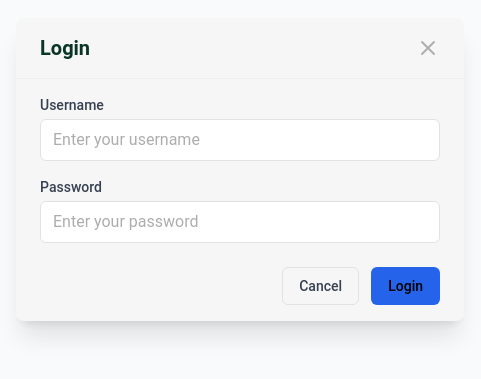
Test: LoginDialog › Form validation › shows error when submitting empty form
Click the button "Login" at (406, 286), box [371, 266, 440, 304]
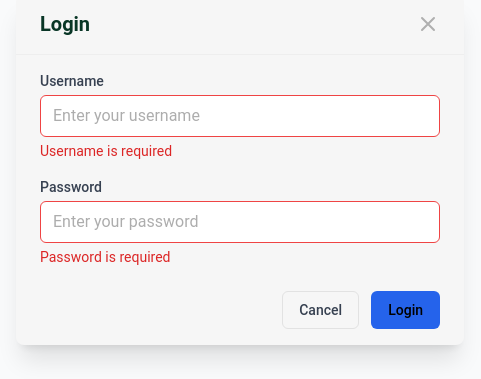
Check: the text "Username is required" is shown, box [40, 142, 172, 158]
Check: the text "Password is required" is shown, box [40, 248, 170, 264]
